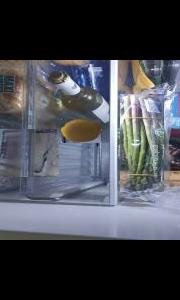Esparrago: (118, 94, 162, 192)
Limón: (60, 119, 100, 143)
Queso: (0, 129, 57, 177)
